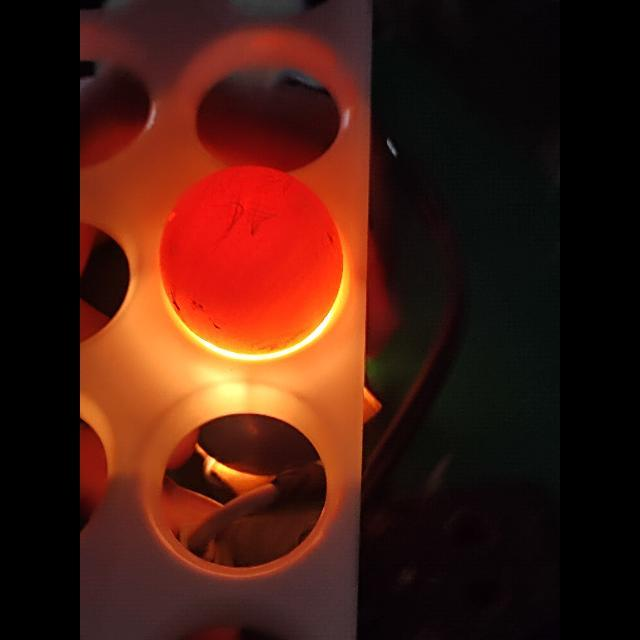Infertile: (167, 164, 345, 346)
